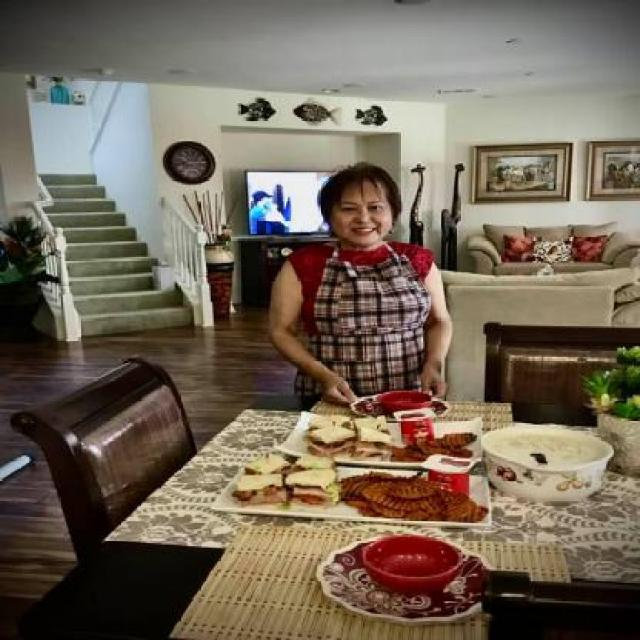clam chowder: (484, 418, 614, 508)
club sandwich: (236, 408, 364, 522)
